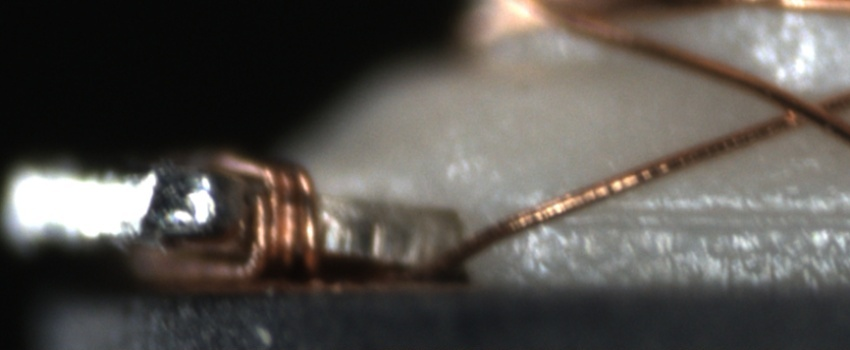CL: (756, 82, 842, 137)
DL: (557, 181, 850, 241)
TE: (202, 138, 325, 293)
